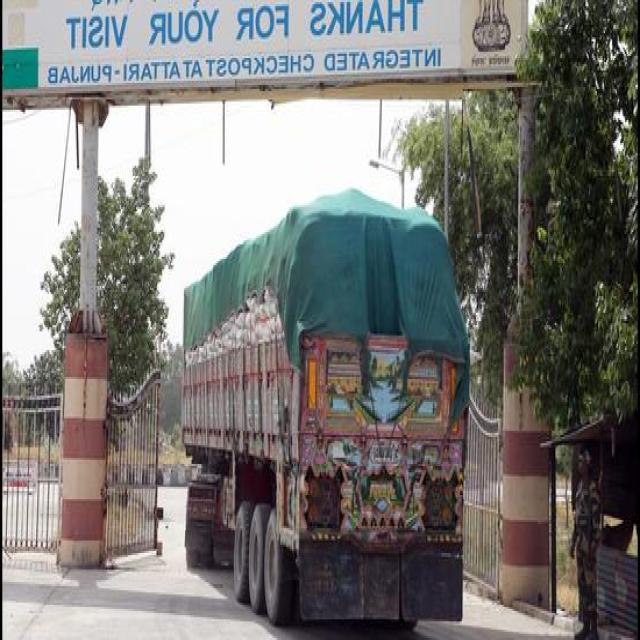truck: (183, 191, 469, 623)
